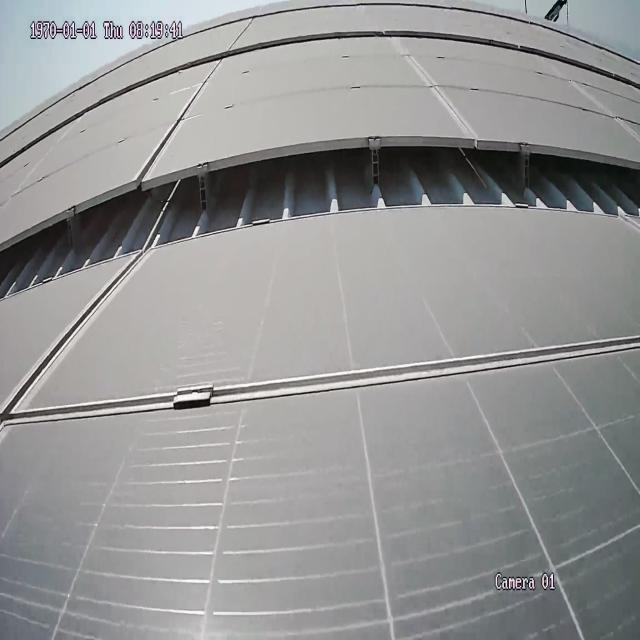interior panel: (1, 261, 640, 437), (142, 68, 219, 169), (401, 51, 482, 132)
outher panel: (0, 145, 640, 305)
